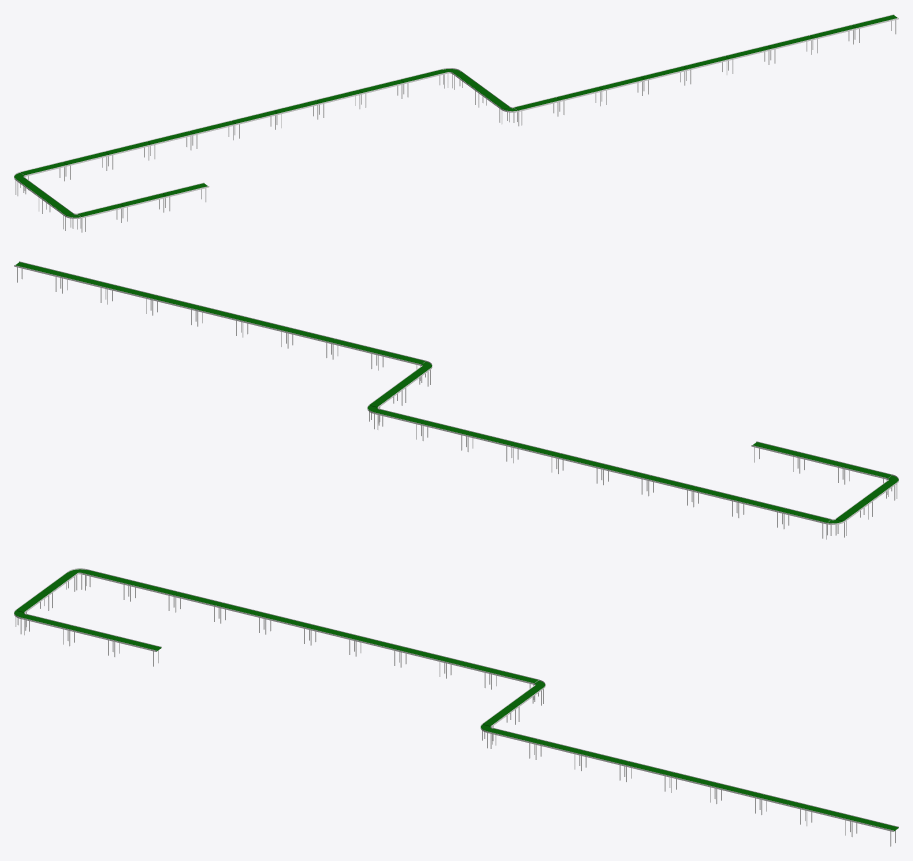
The model's file is conveyor.dae.
3 renders of one model, top to bottom at view 1: azimuth 30°, elevation 25°; view 2: azimuth 150°, elevation 25°; view 3: azimuth 330°, elevation 25°, orthographic. The views are drawn at different scales.
Size of the model in its own units: 2378 by 308 by 43.31.
